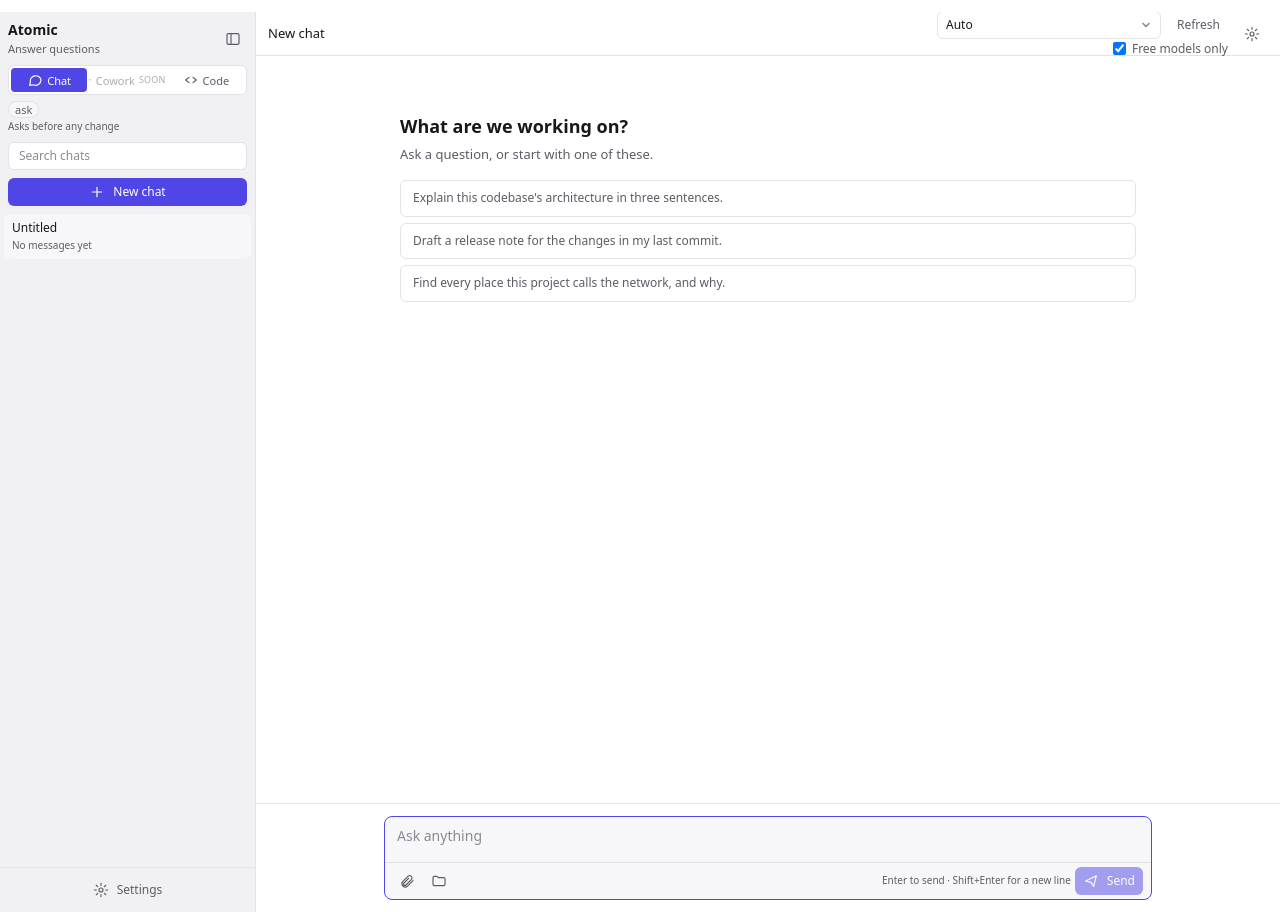
it: New chat, through the real App › says so when it reuses the chat you are already on
Expected: the text box labelled "Ask anything" is enabled, [385,817,1151,856]
Step 1. Click the button "New chat" → coordinates (128, 192), box [8,178,247,206]
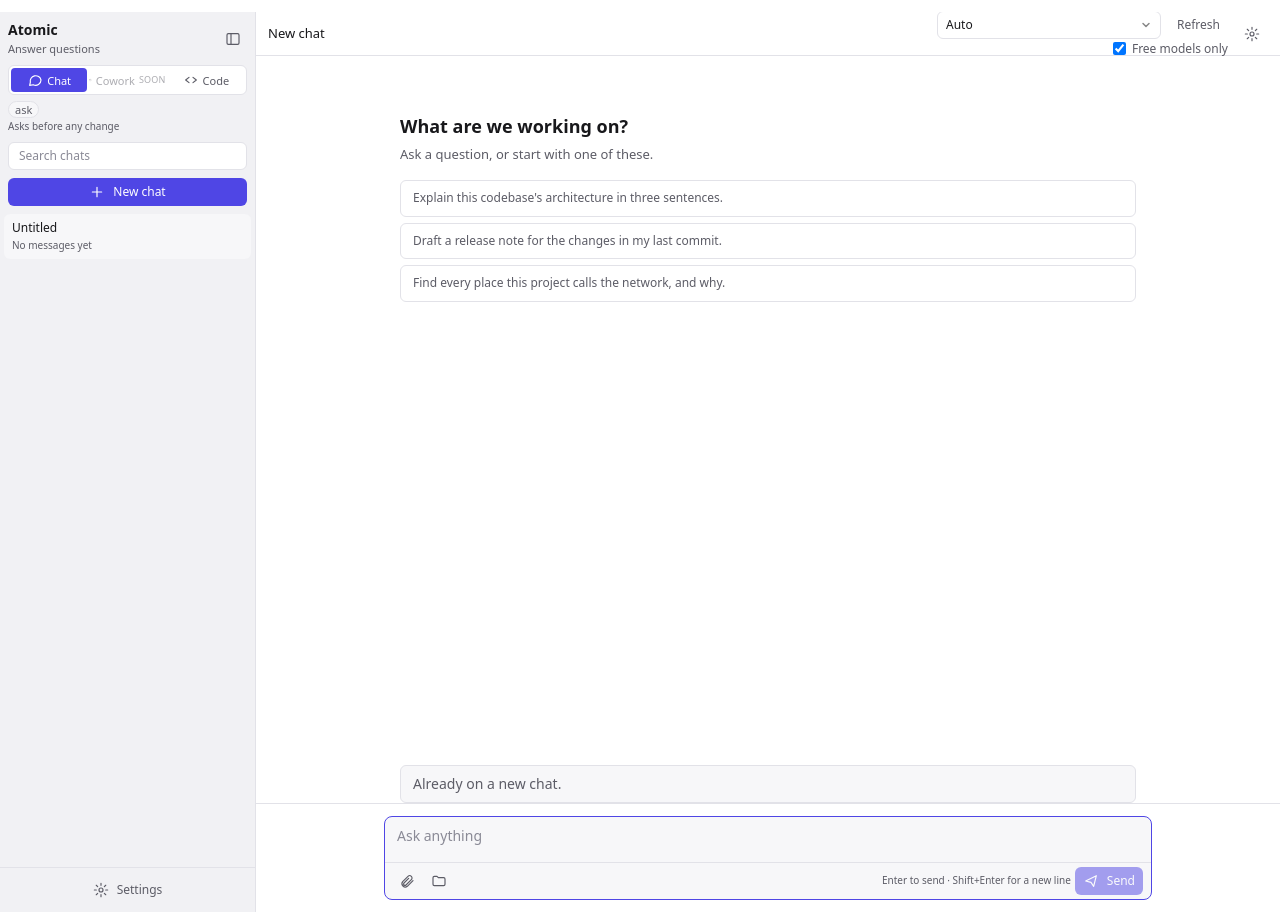
Expected: the message shows "Already on a new chat", [413,774,561,793]
